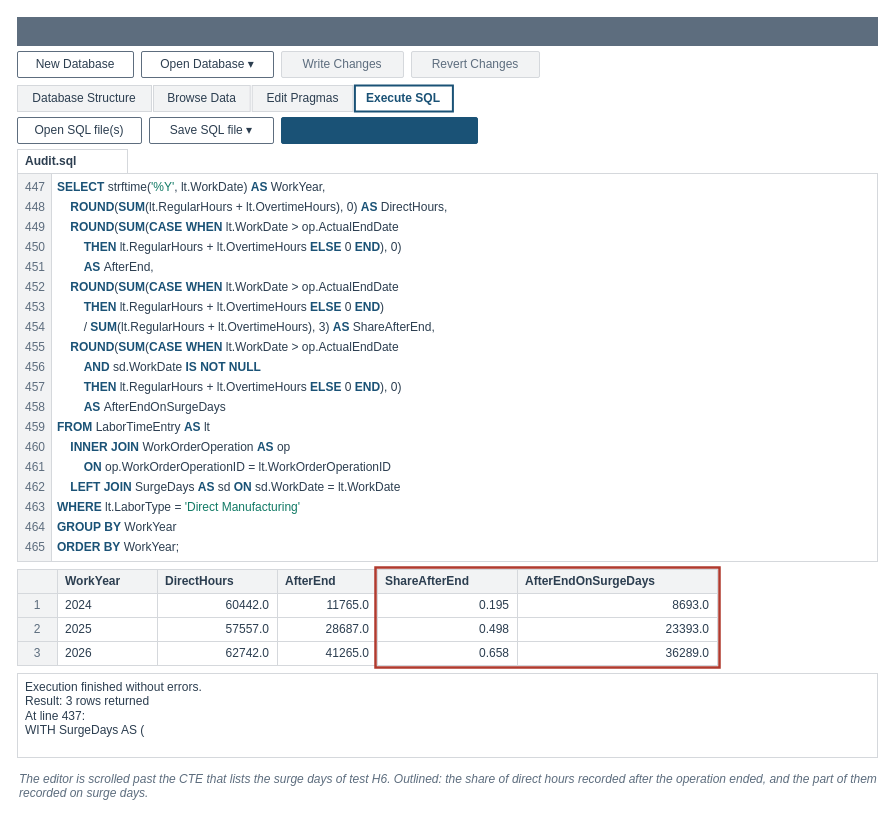
This 895x825 diagram has some shape labels left out. The centre of each missing label's shape, as x and y in pixels:
DB Browser for SQLite - C:\Users\you\Documents\CharlesRiver_Work.sqlite: the point at 447,31
▶ Execute all/selected SQL: the point at 379,130
